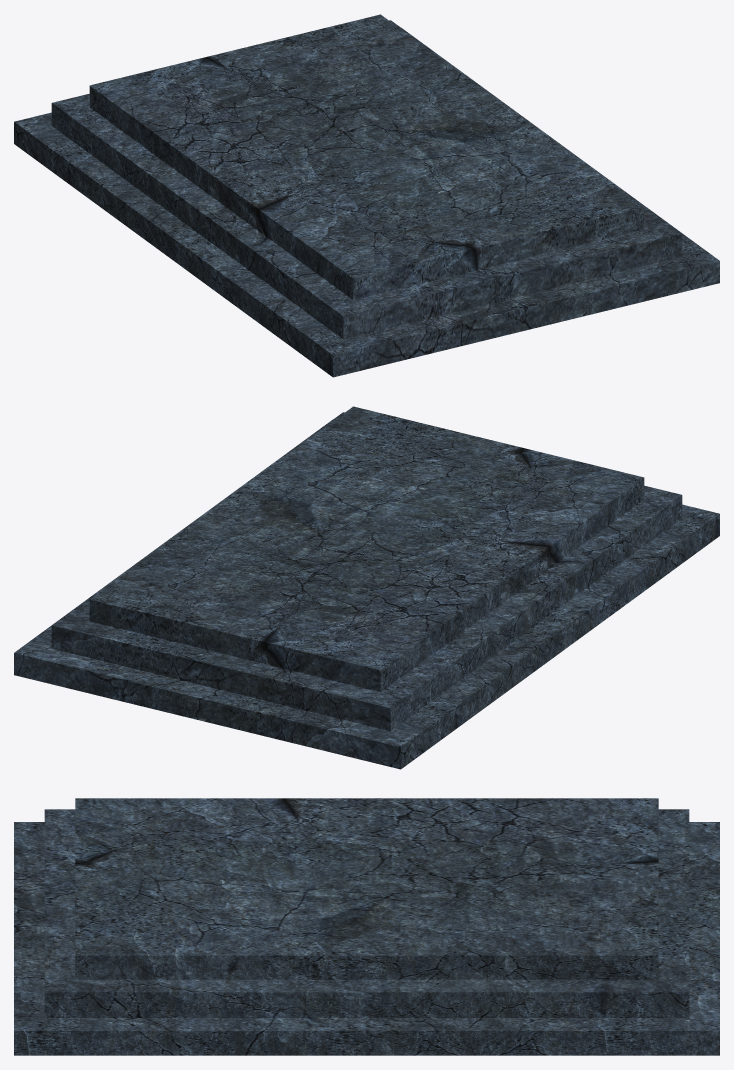
File: CasketStand.FBX
3 views of the same model, one above another, from view 1: azimuth 30°, elevation 25°; view 2: azimuth 150°, elevation 25°; view 3: azimuth 270°, elevation 25° (orthographic). The views are drawn at different scales.
Parts seen in each view (by area): view 1: Casket Stand; view 2: Casket Stand; view 3: Casket Stand.
Boxes of the visible parts, bbox=[...] form: Casket Stand: bbox=[14, 14, 719, 377]; Casket Stand: bbox=[14, 406, 719, 769]; Casket Stand: bbox=[14, 798, 719, 1055].
Bounding box in the file's own units: 44.53 × 7.37 × 63.61.
